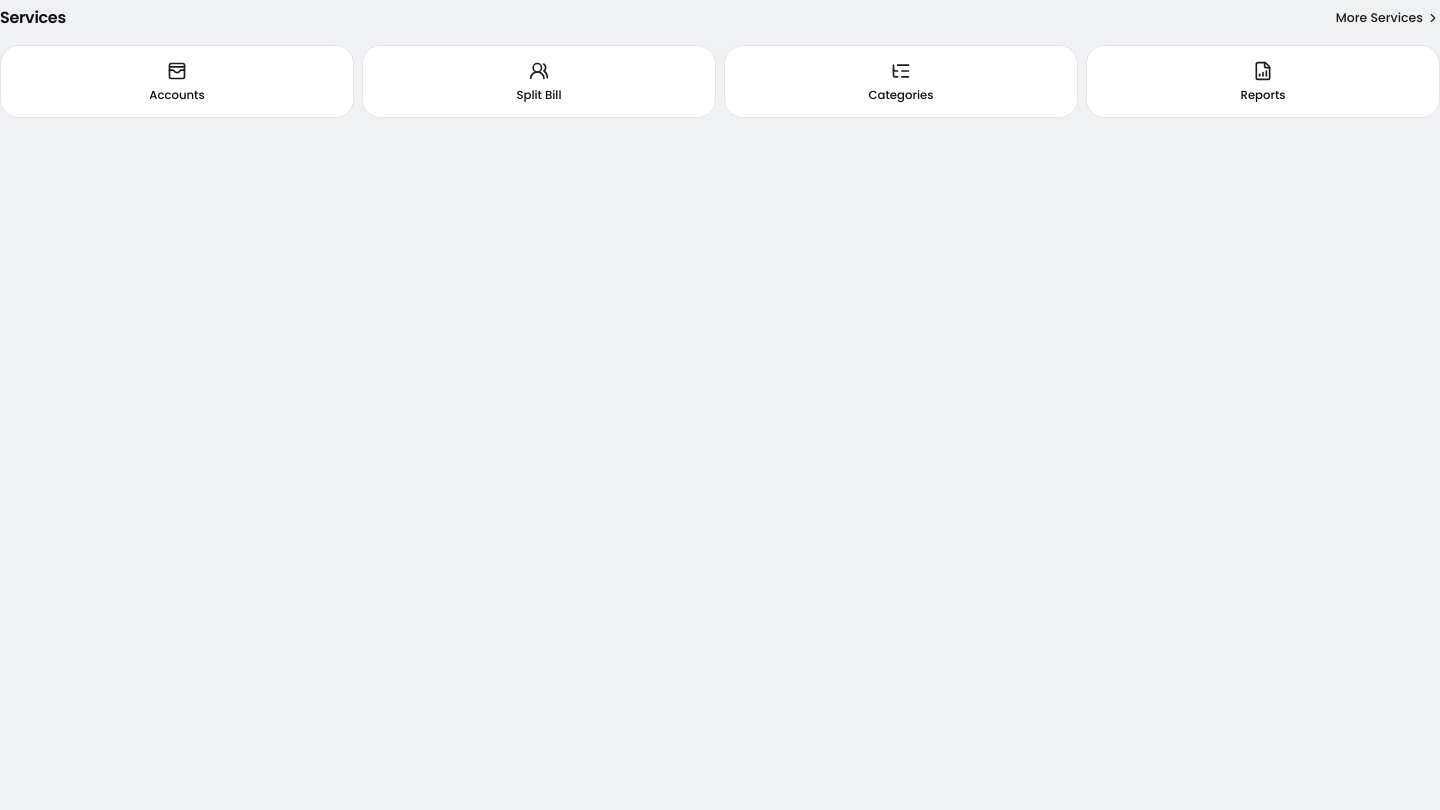
Scenario: ServicesSection › closes the modal with the close button
Click the button "More Services" at (1388, 18), box [1336,0,1439,36]
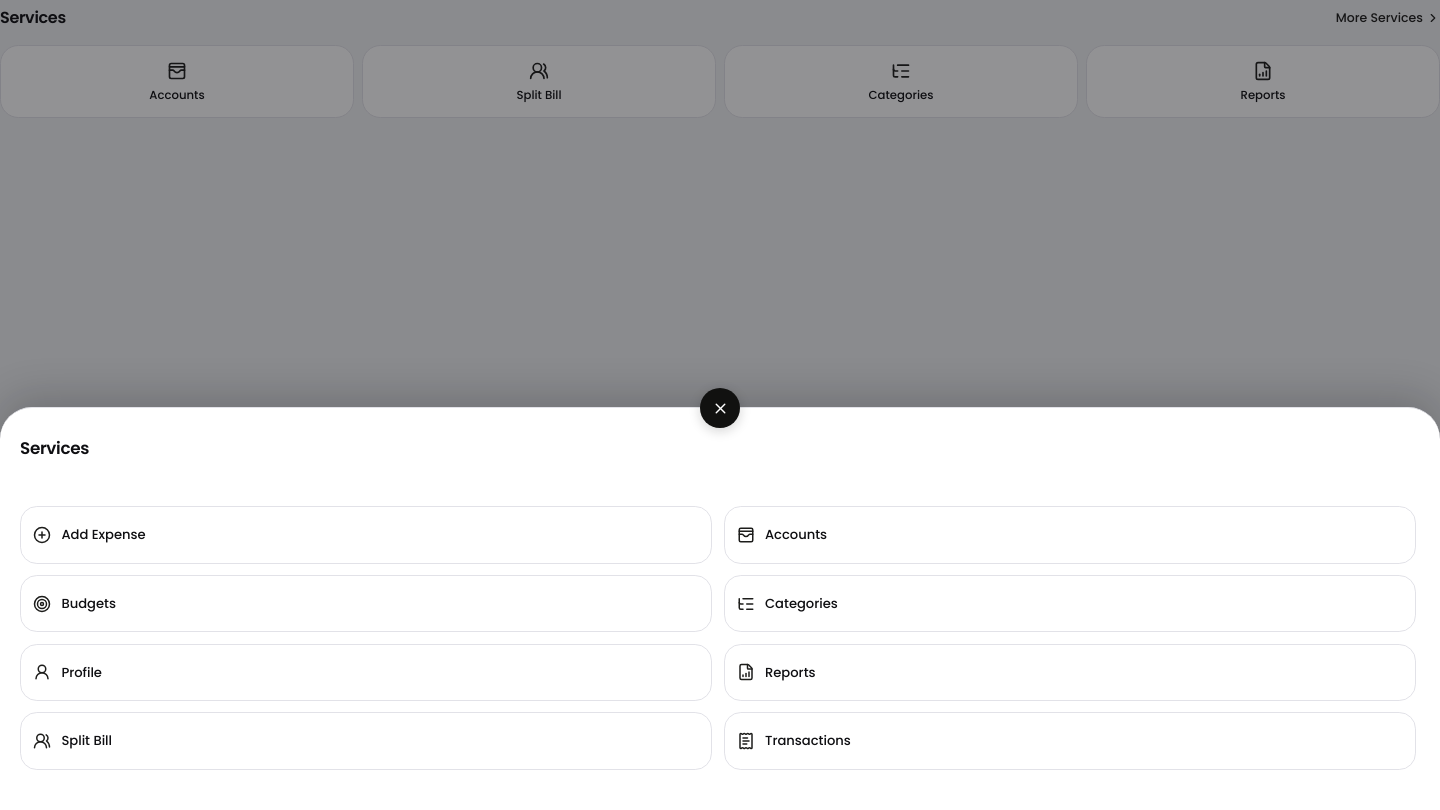
Click the button named "Close" at (720, 408), box [700,388,740,428]
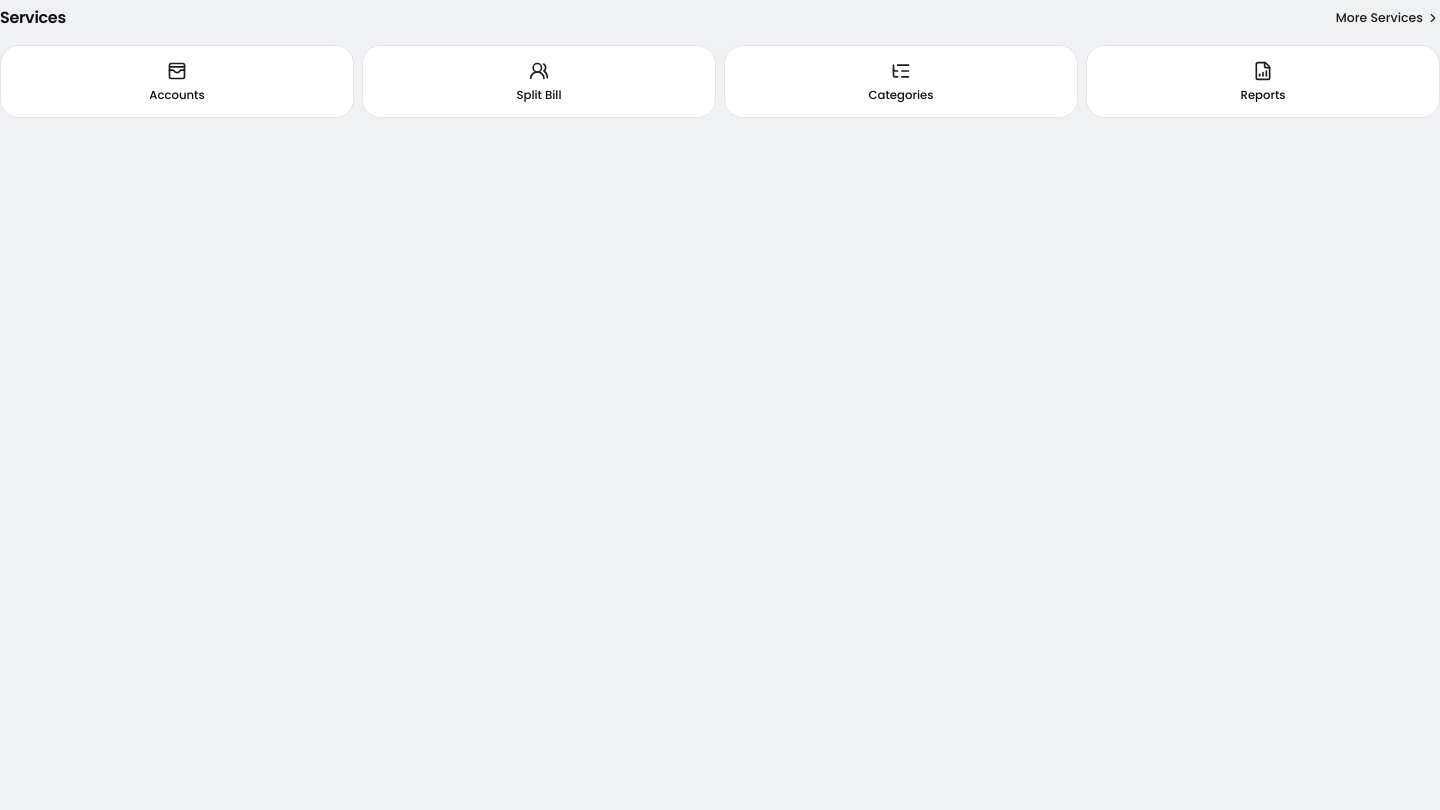
Result: the dialog is gone
